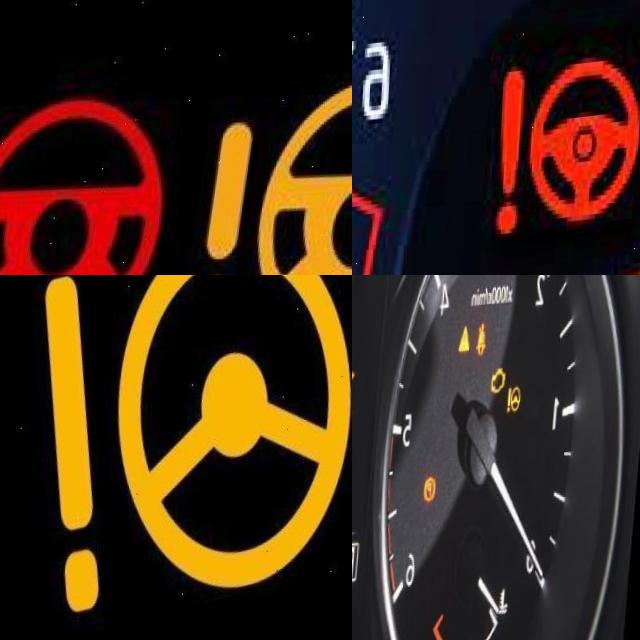Electronic Power Steering: (505, 397, 529, 428)
Electronic Power Steering Warning: (29, 275, 352, 625), (0, 91, 172, 275), (197, 80, 352, 275), (496, 62, 640, 240)
Seat Belt: (477, 333, 491, 367)
